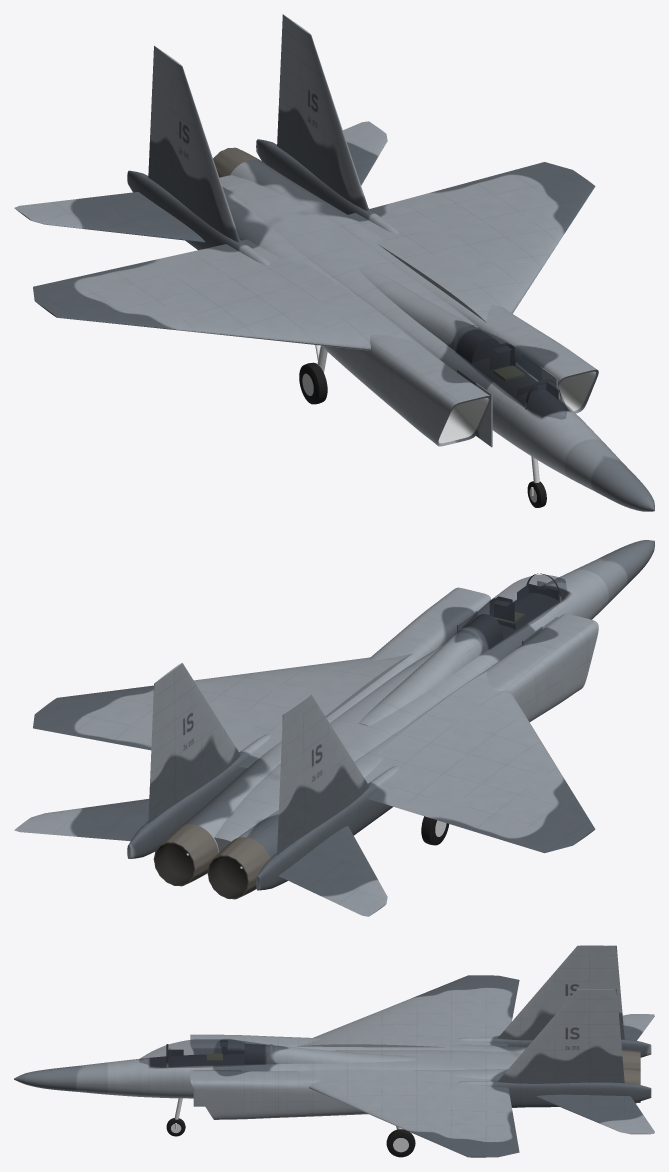
Rendered from f15-eagle.glb.
3 views of the same model, one above another, from view 1: azimuth 30°, elevation 25°; view 2: azimuth 150°, elevation 25°; view 3: azimuth 270°, elevation 25° (orthographic). The views are drawn at different scales.
Parts seen in each view (by area): view 1: F15_Airframe, F15_Canopy, F15_Intakes, F15_Tires, F15_Cockpit, F15_Nozzles; view 2: F15_Airframe, F15_Canopy, F15_Nozzles, F15_Nozzle_Interior, F15_Cockpit; view 3: F15_Airframe, F15_Canopy, F15_Tires, F15_Nozzles, F15_Landing_Gear.
Boxes of the visible parts, <box> form: F15_Airframe: <box>14,14,654,511</box>; F15_Canopy: <box>457,326,566,419</box>; F15_Intakes: <box>438,371,595,443</box>; F15_Tires: <box>299,362,546,507</box>; F15_Cockpit: <box>489,343,558,399</box>; F15_Nozzles: <box>213,147,265,177</box>; F15_Airframe: <box>14,540,654,916</box>; F15_Canopy: <box>458,574,566,648</box>; F15_Nozzles: <box>153,824,270,899</box>; F15_Nozzle_Interior: <box>155,843,247,898</box>; F15_Cockpit: <box>489,584,558,629</box>; F15_Airframe: <box>14,945,654,1157</box>; F15_Canopy: <box>139,1039,273,1067</box>; F15_Tires: <box>166,1118,415,1157</box>; F15_Nozzles: <box>622,1050,640,1103</box>; F15_Landing_Gear: <box>171,1098,408,1152</box>.
Size of the model in its own units: 13.04 by 5.64 by 19.46.
Materials: 10 (1 with a texture image).
